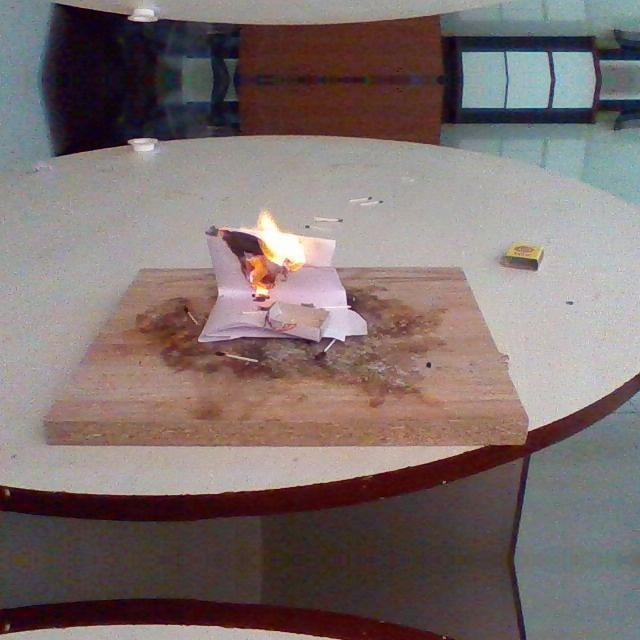smoke: (252, 207, 310, 271)
